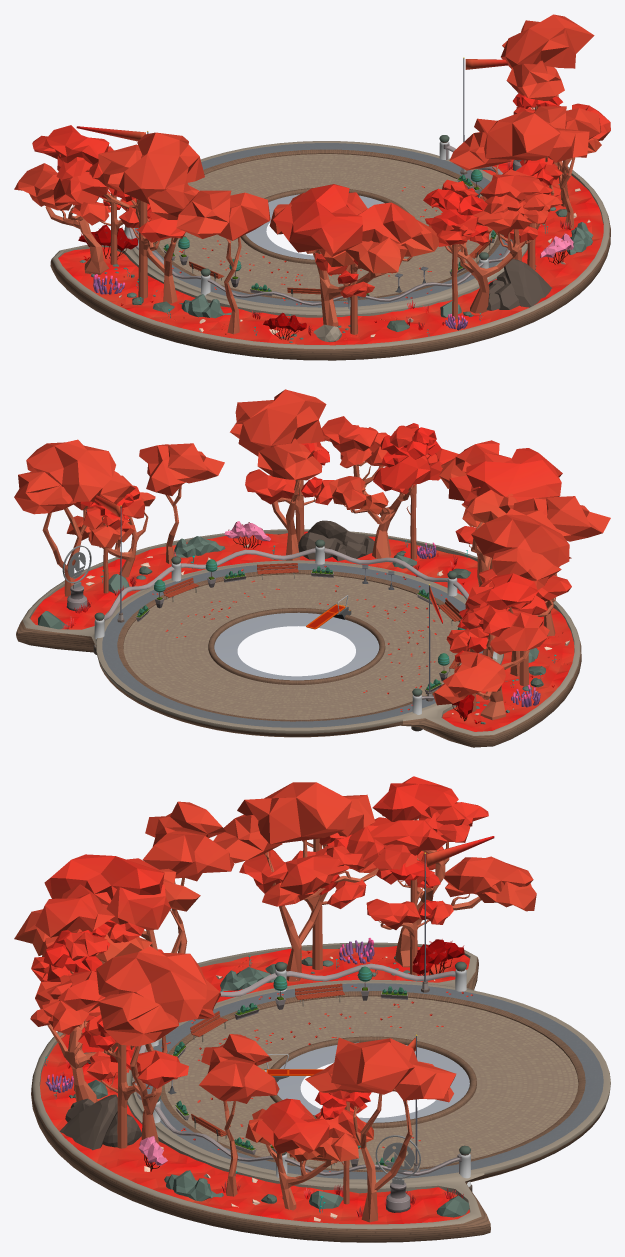
Rendered from lobby_platform_cutout.glb.
The picture shows the model from 3 angles, top to bottom: view 1: azimuth 30°, elevation 25°; view 2: azimuth 150°, elevation 25°; view 3: azimuth 270°, elevation 25°; orthographic projection. The views are drawn at different scales.
Parts seen in each view (by area): view 1: cloud_platform.002, cloud_platform.003, Asian_Tree05.001, Asian_Tree04.033, Asian_Tree02.004, Asian_Tree06.061, Asian_Tree02.002, Asian_Tree02.001, Asian_Tree02.007, Core_Rocks.012, AsianTallTree02.002, AsianTallTree.013 (+12 smaller); view 2: cloud_platform.002, cloud_platform.003, Asian_Tree04.033, Asian_Tree02.002, Asian_Tree05.001, Asian_Tree02.001, Asian_Tree06.061, Asian_Tree02.004, Asian_Tree02.003, Asian_Tree05.034, AsianTallTree.005, Asian_Tree02.007 (+12 smaller); view 3: cloud_platform.002, cloud_platform.003, Asian_Tree04.033, Asian_Tree05.001, Asian_Tree02.002, Asian_Tree02.004, Asian_Tree02.001, Asian_Tree05.034, Asian_Tree06.061, Asian_Tree02.007, Asian_Tree02.003, AsianTallTree.005 (+13 smaller).
Boxes of the visible parts, bbox=[...] form: cloud_platform.002: bbox=[50, 141, 610, 360]; cloud_platform.003: bbox=[58, 159, 603, 345]; Asian_Tree05.001: bbox=[269, 184, 438, 326]; Asian_Tree04.033: bbox=[14, 125, 136, 274]; Asian_Tree02.004: bbox=[98, 132, 204, 303]; Asian_Tree06.061: bbox=[425, 169, 562, 313]; Asian_Tree02.002: bbox=[449, 111, 589, 261]; Asian_Tree02.001: bbox=[501, 14, 594, 166]; Asian_Tree02.007: bbox=[176, 190, 270, 334]; Core_Rocks.012: bbox=[127, 188, 593, 342]; AsianTallTree02.002: bbox=[423, 179, 489, 319]; AsianTallTree.013: bbox=[108, 188, 185, 298]; cloud_platform.002: bbox=[16, 529, 581, 747]; cloud_platform.003: bbox=[30, 531, 574, 731]; Asian_Tree04.033: bbox=[433, 568, 549, 720]; Asian_Tree02.002: bbox=[230, 389, 326, 560]; Asian_Tree05.001: bbox=[439, 440, 562, 586]; Asian_Tree02.001: bbox=[14, 439, 135, 596]; Asian_Tree06.061: bbox=[321, 416, 458, 558]; Asian_Tree02.004: bbox=[471, 508, 571, 676]; Asian_Tree02.003: bbox=[139, 443, 224, 564]; Asian_Tree05.034: bbox=[66, 485, 155, 577]; AsianTallTree.005: bbox=[245, 442, 334, 545]; Asian_Tree02.007: bbox=[513, 496, 610, 636]; cloud_platform.002: bbox=[31, 942, 610, 1242]; cloud_platform.003: bbox=[40, 946, 469, 1224]; Asian_Tree04.033: bbox=[262, 776, 536, 967]; Asian_Tree05.001: bbox=[14, 854, 200, 962]; Asian_Tree02.002: bbox=[96, 946, 220, 1143]; Asian_Tree02.004: bbox=[213, 782, 375, 981]; Asian_Tree02.001: bbox=[305, 1037, 456, 1222]; Asian_Tree05.034: bbox=[245, 1098, 373, 1210]; Asian_Tree06.061: bbox=[30, 957, 134, 1103]; Asian_Tree02.007: bbox=[142, 801, 234, 953]; Asian_Tree02.003: bbox=[199, 1034, 279, 1196]; AsianTallTree.005: bbox=[78, 1014, 188, 1148].
Size of what is drawn, in the model's own units: 48.25 by 15.53 by 39.77.
Materials: 66 (66 with a texture image).
